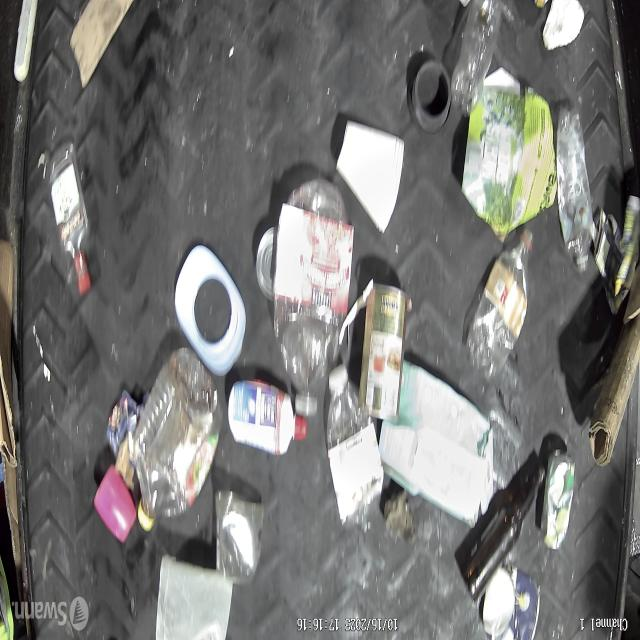can: (355, 272, 405, 421), (478, 563, 538, 637), (542, 446, 576, 552)
plastic_bottle: (274, 180, 346, 424), (129, 344, 218, 528), (464, 230, 532, 380), (324, 358, 379, 520), (554, 101, 592, 277), (449, 0, 500, 116)
